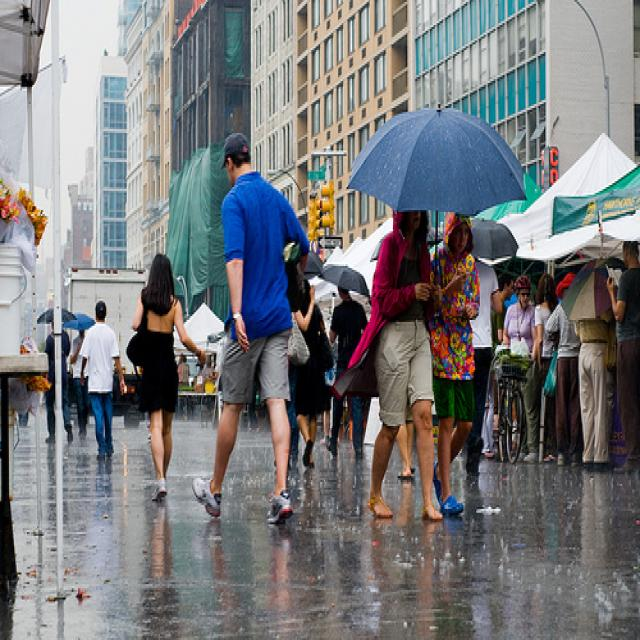Vehicle: (63, 269, 150, 375)
